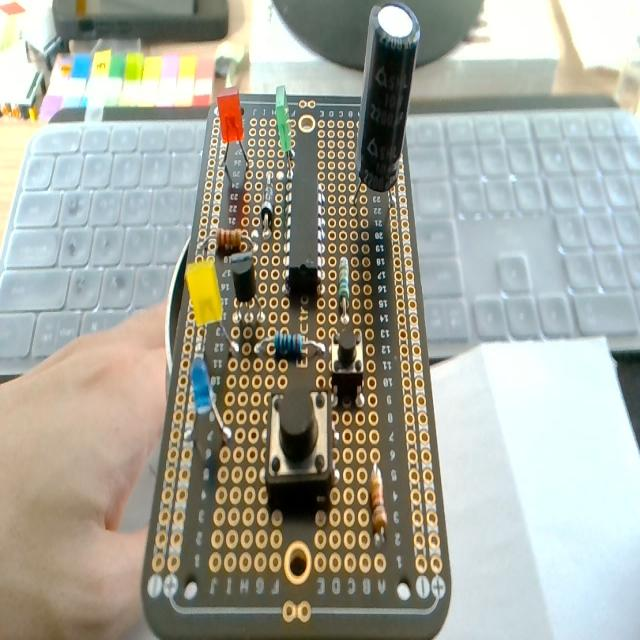Electrolytic capacitor: (356, 1, 418, 195)
IC: (286, 132, 322, 294)
diode: (261, 175, 274, 230)
led: (190, 353, 232, 446), (217, 87, 248, 175), (185, 258, 223, 326), (275, 86, 294, 176)
resistor: (253, 329, 329, 360), (370, 464, 388, 532), (274, 331, 303, 361), (338, 257, 350, 325), (217, 226, 243, 254)
switch: (266, 386, 333, 496), (330, 326, 364, 406)
transistor: (230, 257, 264, 325)
